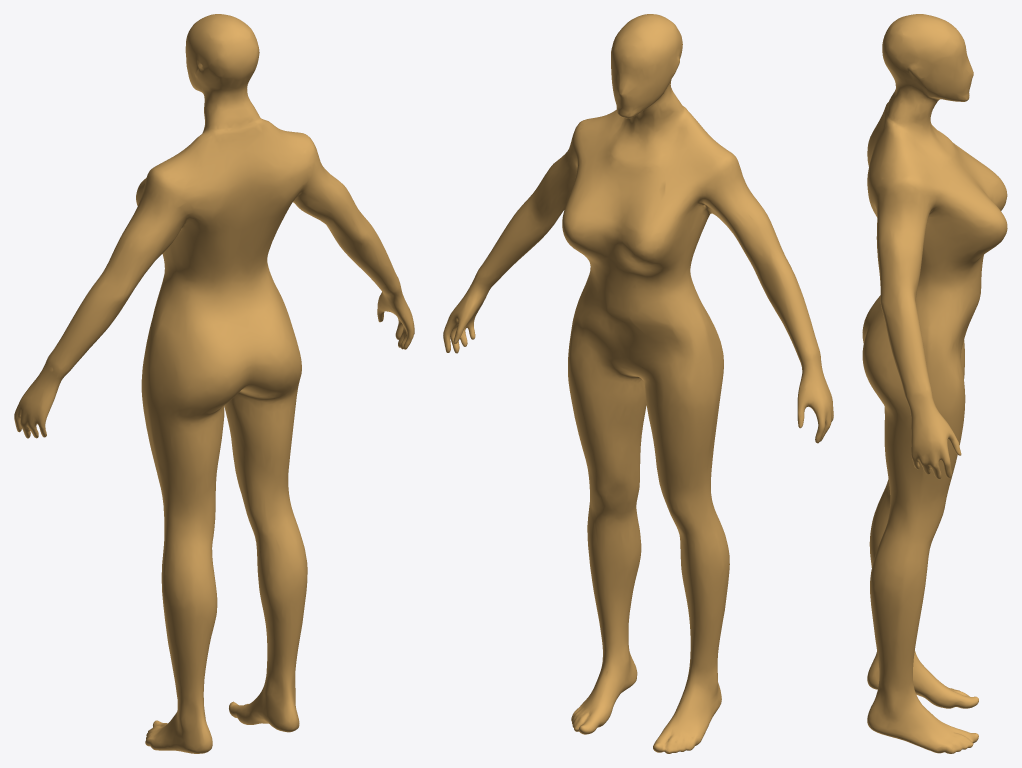
The model's file is athletic-gel-figure-v3-a-pose.glb.
3 renders of one model, left to right at view 1: azimuth 30°, elevation 25°; view 2: azimuth 150°, elevation 25°; view 3: azimuth 270°, elevation 25°, orthographic. The views are drawn at different scales.
Visible parts, largest first — view 1: tripo_node_e11b6511-bf12-4091-a2dd-d8ee4aef8805; view 2: tripo_node_e11b6511-bf12-4091-a2dd-d8ee4aef8805; view 3: tripo_node_e11b6511-bf12-4091-a2dd-d8ee4aef8805.
Boxes of the visible parts, x1,y1,x2,y2 form: tripo_node_e11b6511-bf12-4091-a2dd-d8ee4aef8805: [14, 14, 414, 753]; tripo_node_e11b6511-bf12-4091-a2dd-d8ee4aef8805: [443, 14, 833, 753]; tripo_node_e11b6511-bf12-4091-a2dd-d8ee4aef8805: [862, 14, 1007, 753].
Size of the model in its own units: 0.9449 by 1.68 by 0.3108.
